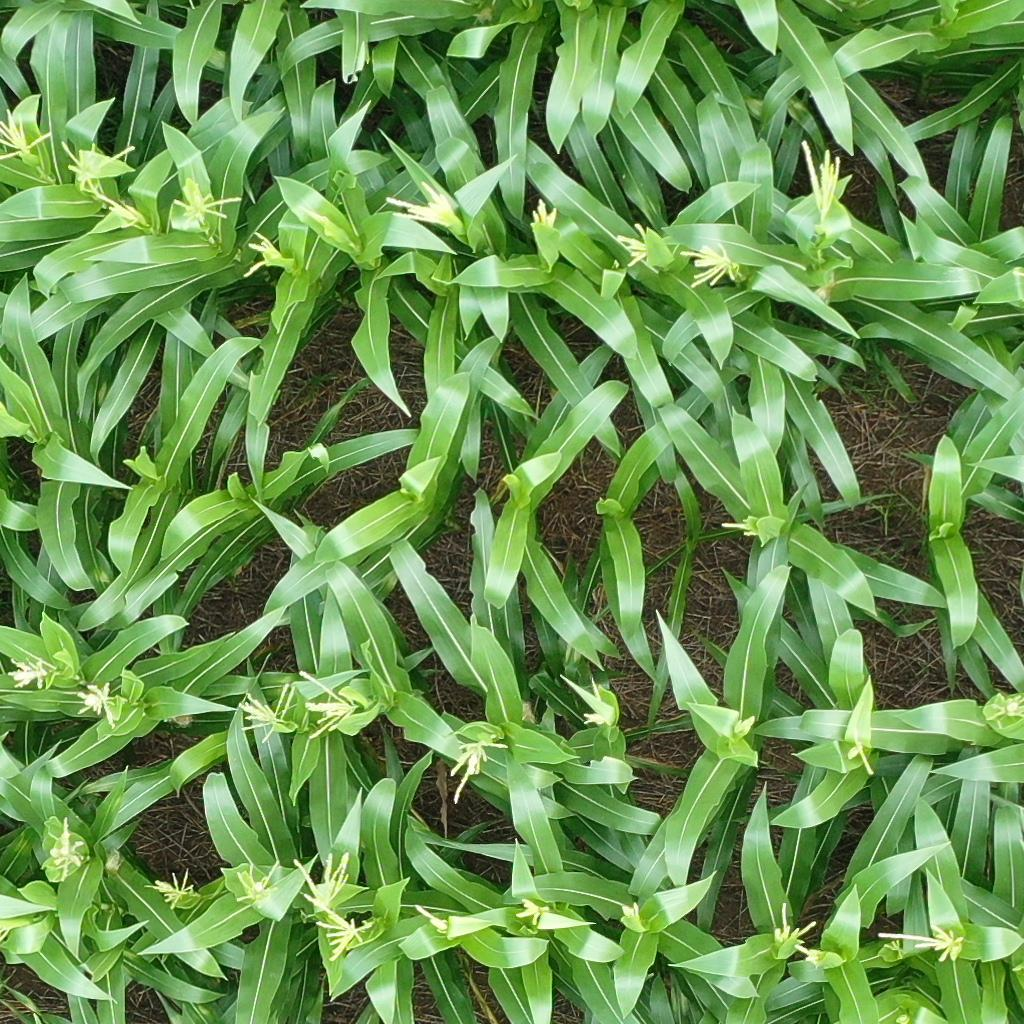Tassel: (291, 853, 374, 959), (60, 135, 143, 228), (795, 134, 846, 233), (300, 666, 362, 737), (449, 735, 511, 805), (383, 177, 459, 233), (235, 679, 296, 744), (875, 922, 965, 962), (556, 673, 617, 729), (773, 900, 823, 968), (678, 238, 741, 289), (172, 179, 244, 222), (42, 813, 85, 882), (1, 108, 52, 162), (76, 679, 124, 729), (144, 865, 194, 909), (614, 220, 657, 269), (236, 858, 278, 904), (243, 230, 284, 277), (720, 509, 773, 543), (845, 725, 876, 780), (410, 901, 452, 938), (4, 657, 51, 689), (293, 201, 341, 230), (985, 688, 1024, 722), (516, 895, 552, 928), (530, 198, 558, 235), (731, 715, 757, 740), (619, 898, 640, 921)
